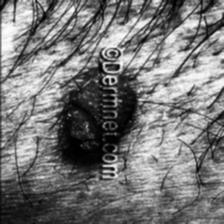Potentially Malignant Skin Tumors: (64, 68, 95, 158), (119, 76, 138, 141)
